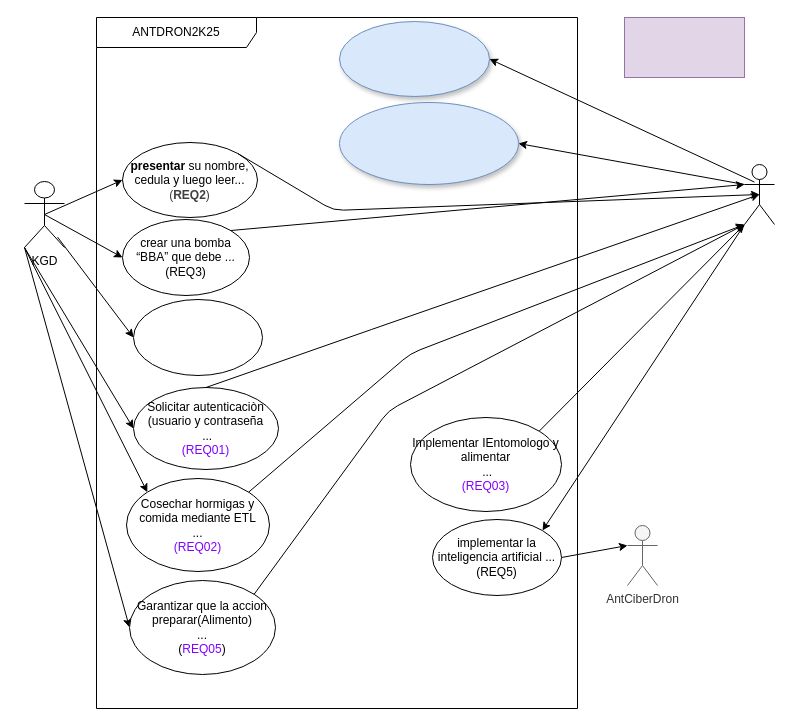
The diagram is 812 pixels wide and 726 high, and some of its shapes have lost their labels. The shapes that lost their labels are listed below. From the top down, each one's centre as x and y in pixels, then its label:
point 415,60: Crear un archivo “ApellidoNombre.csv” .... ( REQ1 )
point 684,47: Los morados son los requerimientos nuevos
point 429,145: Diseñar una propiedad a su hormiga ... (REQ04)
point 759,194: SistemaRuso
point 197,337: crear un tipo de hormiga que derive de ... (REQ4)
